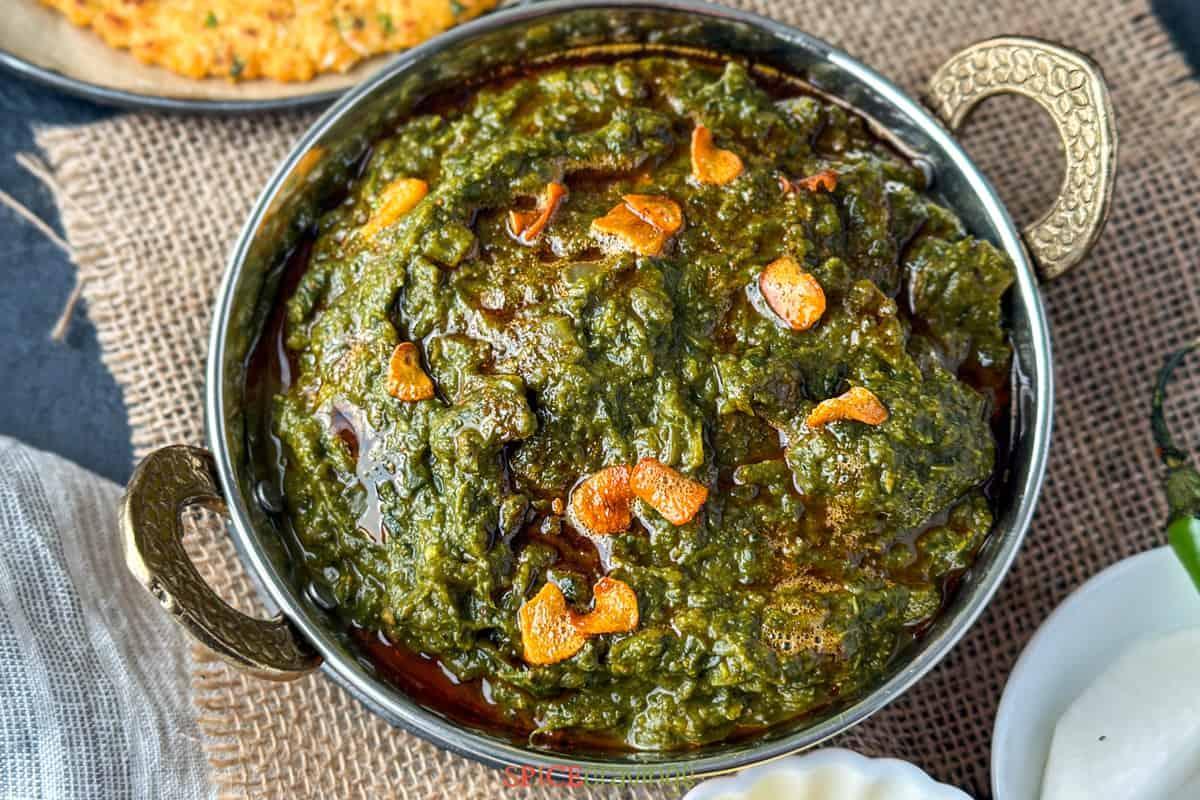saag: (264, 46, 1023, 746)
